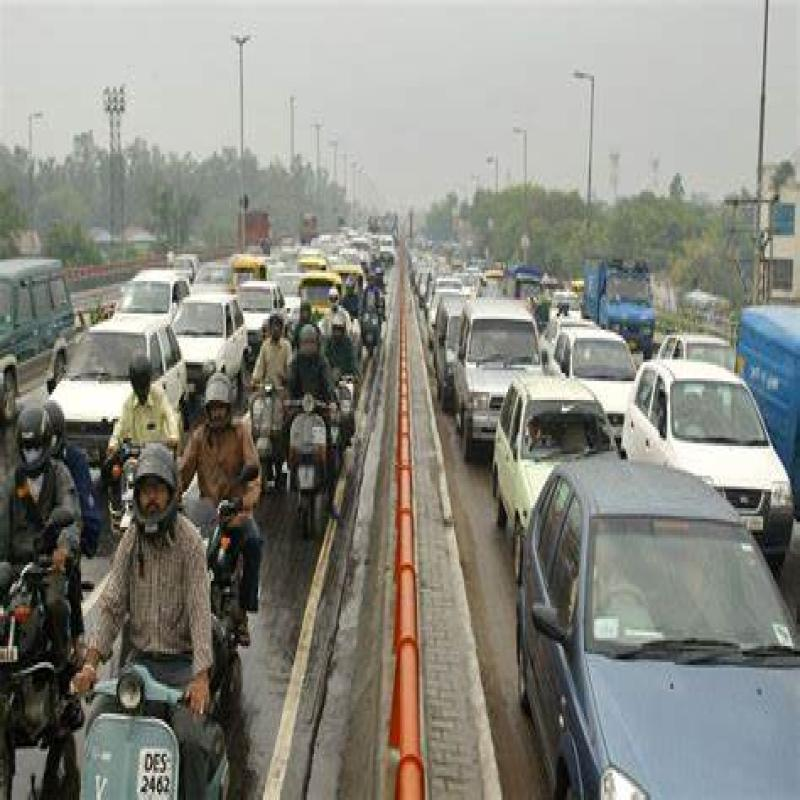bike: (71, 662, 194, 800), (283, 321, 341, 487)
car: (534, 460, 800, 800), (642, 348, 793, 507), (66, 283, 178, 463), (496, 371, 614, 502), (461, 298, 541, 424), (554, 325, 638, 440), (186, 277, 229, 388)
